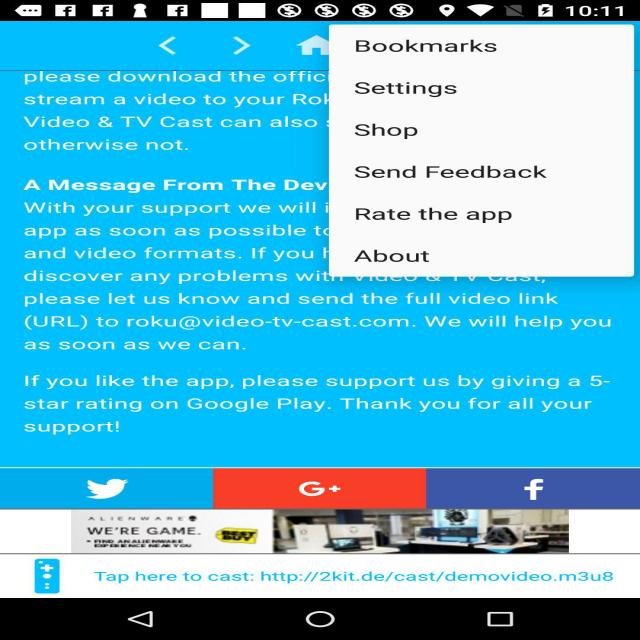text: (8, 59, 640, 464), (325, 36, 608, 320)
